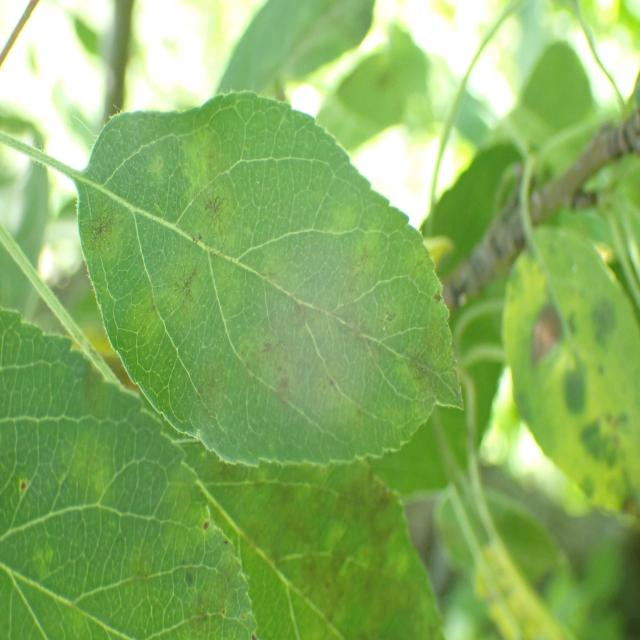scab: (73, 123, 448, 441), (236, 441, 445, 635), (37, 430, 226, 640)
